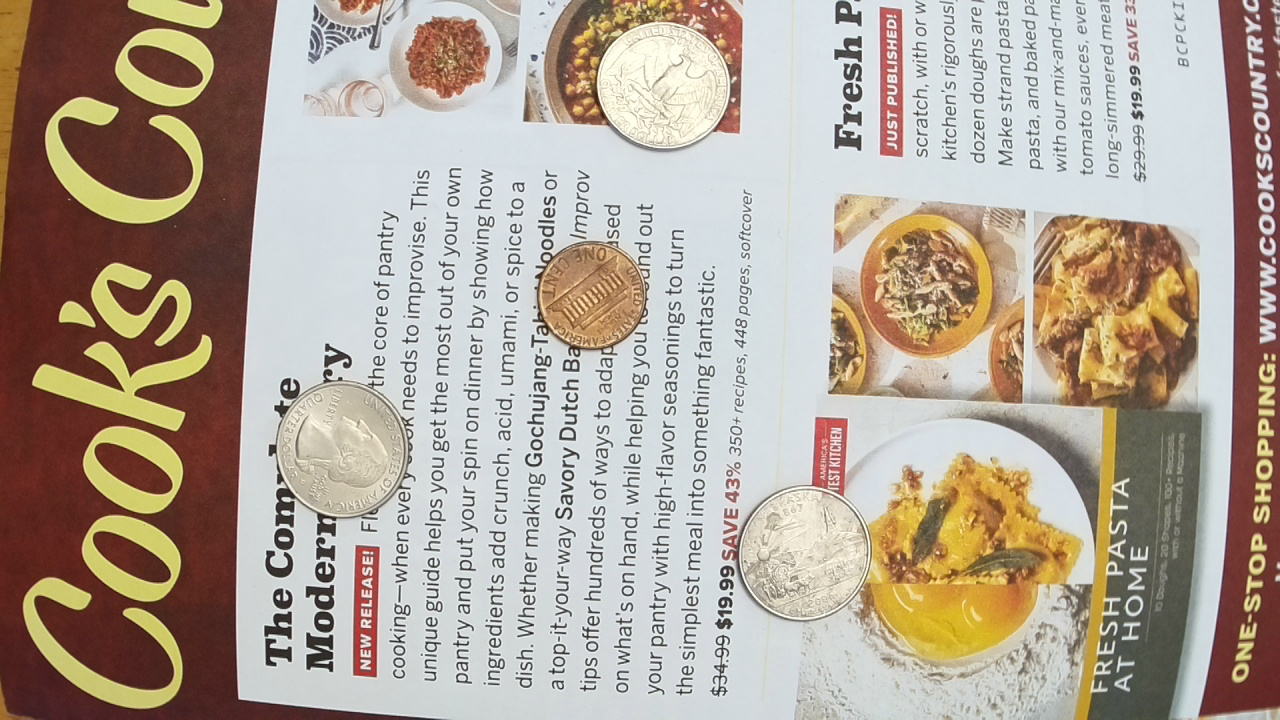penny: (536, 239, 646, 351)
quarter: (590, 4, 738, 162), (736, 475, 868, 629), (274, 376, 410, 518)
